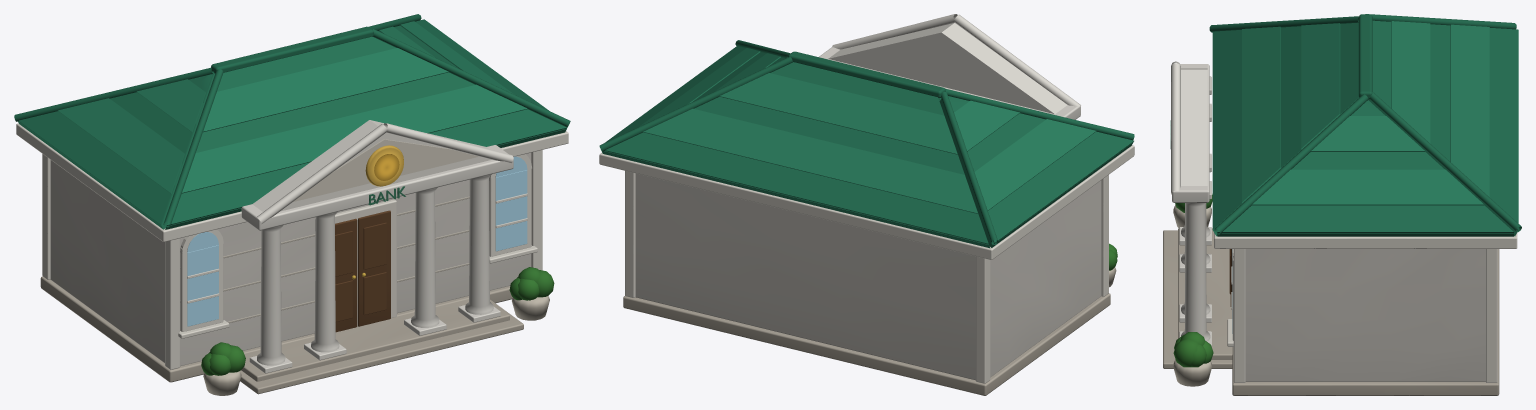
The model's file is bld_bank.glb.
3 renders of one model, left to right at view 1: azimuth 30°, elevation 25°; view 2: azimuth 150°, elevation 25°; view 3: azimuth 270°, elevation 25°, orthographic. The views are drawn at different scales.
Visible parts, largest first — view 1: bld_bank_main, bld_bank_glass; view 2: bld_bank_main; view 3: bld_bank_main.
Part boxes in pixels (bbox=[...]): bld_bank_main: bbox=[14, 14, 570, 395]; bld_bank_glass: bbox=[187, 156, 527, 326]; bld_bank_main: bbox=[599, 14, 1134, 395]; bld_bank_main: bbox=[1163, 14, 1521, 395].
Size of the model in its own units: 4.96 by 2.79 by 3.63.
